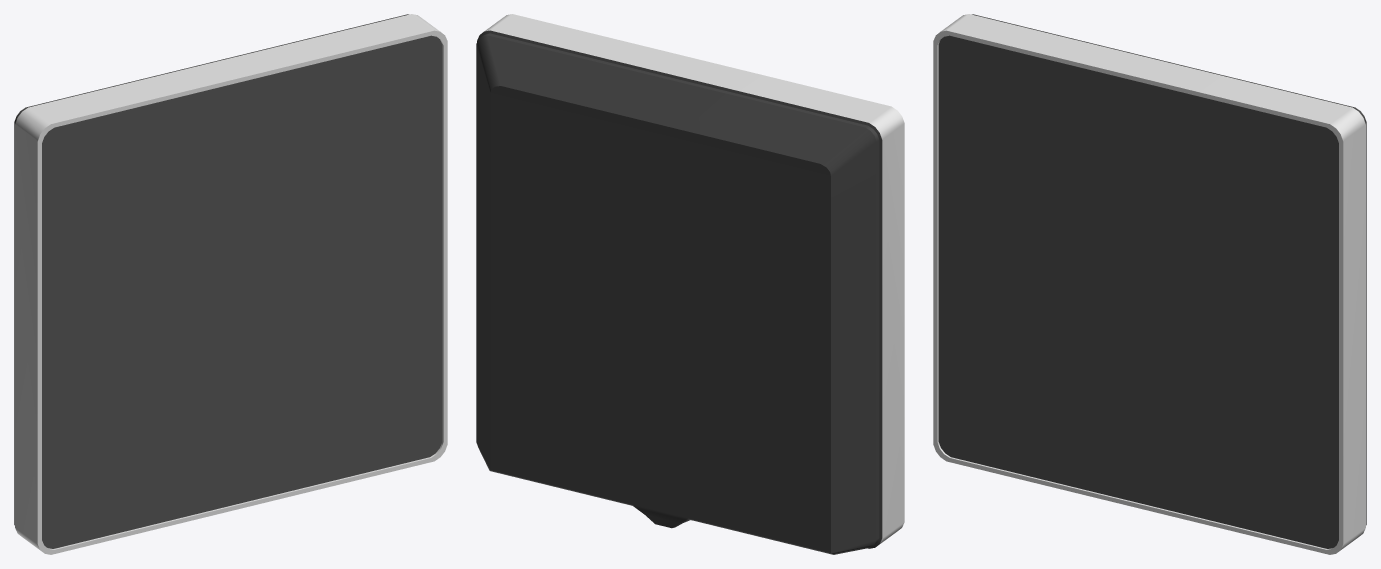
File: StructureWebDisplay.fbx
3 views of the same model, side by side, from view 1: azimuth 30°, elevation 25°; view 2: azimuth 150°, elevation 25°; view 3: azimuth 330°, elevation 25° (orthographic).
Parts seen in each view (by area): view 1: Glass, StructureWebDisplay; view 2: StructureWebDisplay; view 3: Glass, StructureWebDisplay.
Boxes of the visible parts, <box> form: Glass: <box>42,35,442,548</box>; StructureWebDisplay: <box>14,14,447,554</box>; StructureWebDisplay: <box>476,14,904,554</box>; Glass: <box>938,35,1338,548</box>; StructureWebDisplay: <box>933,14,1366,554</box>.
Size of the model in its own units: 142 by 146 by 25.09.
